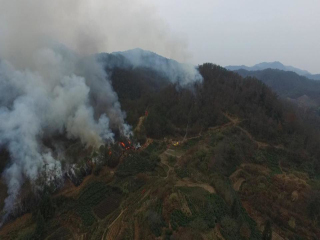smoke: (1, 6, 204, 191)
